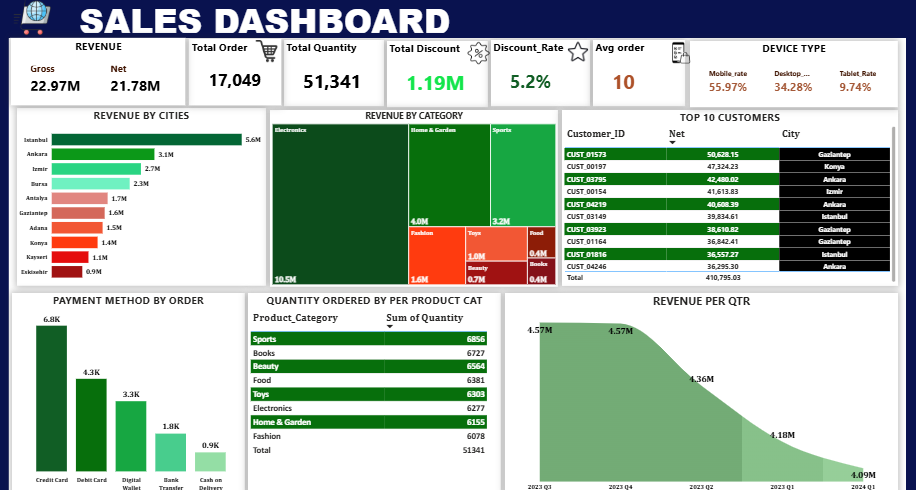

What the dashboard file says about the page in this screenshot:
{"tool":"powerbi","page":{"name":"Sales Dashboard","canvas":[1980,1080],"ordinal":1},"visuals":[{"type":"cardVisual","title":"Total Quantity","fields":{"Data":["Orders.Total_Quantity_Ordered"]},"box":[613.4,97.2,216,142.6],"z":0},{"type":"cardVisual","title":"Total  Discount","fields":{"Data":["Orders.Total_discount"]},"box":[835.9,99.4,218.2,142.6],"z":1000},{"type":"cardVisual","title":"Discount_Rate","fields":{"Data":["Orders.Discount_rate"]},"box":[1060.6,97.2,213.8,142.6],"z":2000},{"type":"cardVisual","title":"Avg order ","fields":{"Data":["Orders.Avg_Quantity_Per_Customer"]},"box":[1280.9,97.2,198.7,142.6],"z":3000},{"type":"shape","box":[0,0,19.4,1080],"z":4000},{"type":"shape","box":[0,0,1980.7,92.9],"z":5000},{"type":"textbox","title":"SALES DASHBOARD","box":[166.3,0,1144.8,82.1],"z":6000},{"type":"barChart","title":"REVENUE BY CITIES","fields":{"Category":["Orders.City"],"Y":["Orders.Net_Revenue"]},"box":[36.7,244.1,537.8,384.5],"z":7000},{"type":"treemap","title":"REVENUE BY CATEGORY","fields":{"Group":["Orders.Product_Category"],"Values":["Orders.Net_Revenue"]},"box":[583.2,248.4,622.1,382.3],"z":8000},{"type":"tableEx","title":"TOP 10 CUSTOMERS","fields":{"Values":["Orders.Customer_ID","Orders.Net_Revenue","Orders.City"]},"box":[1213.9,248.4,725.8,380.2],"z":9000},{"type":"columnChart","title":"PAYMENT METHOD BY ORDER","fields":{"Category":["Orders.Payment_Method"],"Y":["CountNonNull(Orders.Order_ID)"]},"box":[25.9,643.7,503.3,436.3],"z":10000},{"type":"cardVisual","title":"Total Order","fields":{"Data":["Orders.Total_order"]},"box":[408.2,95,198.7,142.6],"z":12000},{"type":"cardVisual","title":"REVENUE","fields":{"Data":["Orders.Gross_Revenue","Orders.Net_Revenue"]},"box":[23.8,92.9,375.8,144.7],"z":13000},{"type":"cardVisual","title":"DEVICE TYPE","fields":{"Data":["Orders.Mobile_rate","Orders.Desktop_Rate","Orders.Tablet_Rate"]},"box":[1490.4,99.4,449.3,142.6],"z":14000},{"type":"image","box":[544.3,97.2,62.6,47.5],"z":15000},{"type":"image","box":[997.9,99.4,71.3,51.8],"z":16000},{"type":"image","box":[1213.9,90.7,69.1,62.6],"z":17000},{"type":"image","box":[1432.1,99.4,77.8,49.7],"z":18000},{"type":"tableEx","title":"QUANTITY ORDERED BY PER PRODUCT CAT","fields":{"Values":["Orders.Product_Category","Sum(Orders.Quantity)"]},"box":[535.7,643.7,546.5,436.3],"z":19000},{"type":"lineChart","title":"REVENUE PER QTR","fields":{"Y":["Orders.Net_Revenue"],"Category":["Date_Table.Date.Variation.Date Hierarchy.Quarter"]},"box":[1090.8,643.7,848.9,436.3],"z":20000},{"type":"image","box":[10.8,6.5,118.8,79.9],"z":21000},{"type":"shape","box":[1957,17.3,23.8,1062.7],"z":22000}]}

Visuals, with their boxes in screenshot pixels (x1, y1, x2, y2), scaled from the page's 1980x1080 canvas onto the 916x490 screenshot:
"Total Quantity" cardVisual: (left=284, top=44, right=384, bottom=109)
"Total  Discount" cardVisual: (left=387, top=45, right=488, bottom=110)
"Discount_Rate" cardVisual: (left=491, top=44, right=590, bottom=109)
"Avg order " cardVisual: (left=593, top=44, right=685, bottom=109)
shape: (left=0, top=0, right=9, bottom=489)
shape: (left=0, top=0, right=915, bottom=42)
"SALES DASHBOARD" textbox: (left=77, top=0, right=607, bottom=37)
"REVENUE BY CITIES" barChart: (left=17, top=111, right=266, bottom=285)
"REVENUE BY CATEGORY" treemap: (left=270, top=113, right=558, bottom=286)
"TOP 10 CUSTOMERS" tableEx: (left=562, top=113, right=897, bottom=285)
"PAYMENT METHOD BY ORDER" columnChart: (left=12, top=292, right=245, bottom=489)
"Total Order" cardVisual: (left=189, top=43, right=281, bottom=108)
"REVENUE" cardVisual: (left=11, top=42, right=185, bottom=108)
"DEVICE TYPE" cardVisual: (left=689, top=45, right=897, bottom=110)
image: (left=252, top=44, right=281, bottom=66)
image: (left=462, top=45, right=495, bottom=69)
image: (left=562, top=41, right=594, bottom=70)
image: (left=663, top=45, right=699, bottom=68)
"QUANTITY ORDERED BY PER PRODUCT CAT" tableEx: (left=248, top=292, right=501, bottom=489)
"REVENUE PER QTR" lineChart: (left=505, top=292, right=897, bottom=489)
image: (left=5, top=3, right=60, bottom=39)
shape: (left=905, top=8, right=915, bottom=489)
